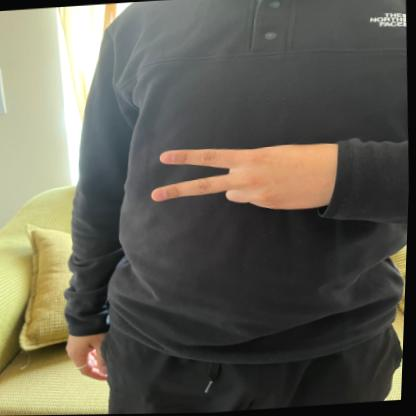H: (145, 130, 354, 230)
